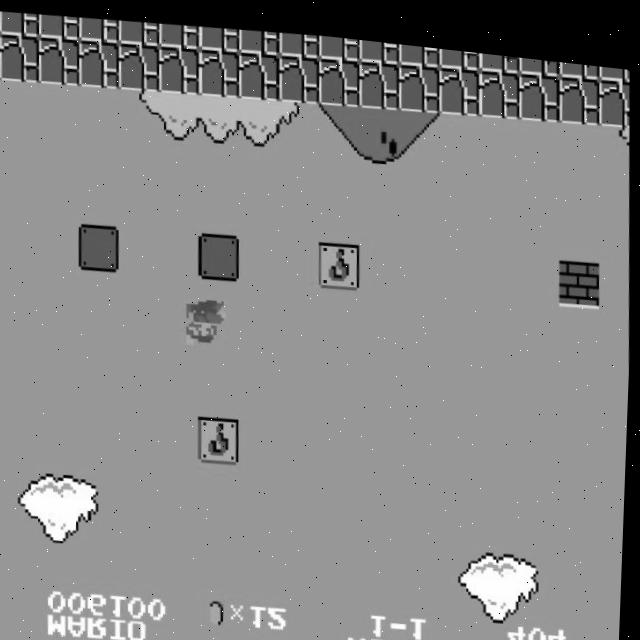1- brick_block: (558, 245, 602, 296)
11- little_mario: (184, 291, 230, 344)
13- mystery_block: (318, 232, 363, 283), (199, 410, 243, 460)
17- undestructible_block: (437, 55, 482, 106), (477, 57, 522, 108), (517, 59, 562, 110), (557, 61, 602, 112), (37, 34, 81, 85), (77, 36, 121, 87), (117, 38, 161, 89), (157, 40, 201, 91), (197, 43, 241, 94), (237, 45, 281, 96), (277, 47, 321, 98), (317, 49, 361, 100), (357, 51, 401, 102), (397, 53, 441, 104), (0, 32, 41, 83), (597, 64, 631, 114), (277, 24, 320, 52), (38, 12, 80, 40), (78, 14, 120, 42), (118, 16, 160, 44), (158, 18, 200, 46), (198, 20, 240, 48), (238, 22, 280, 50), (0, 10, 40, 37), (317, 28, 360, 53), (357, 31, 400, 56), (397, 35, 440, 58), (437, 38, 480, 60), (478, 42, 520, 62), (518, 45, 560, 64), (558, 49, 600, 66), (598, 52, 629, 68)
3- empty_block: (78, 220, 122, 271), (198, 226, 242, 277)
